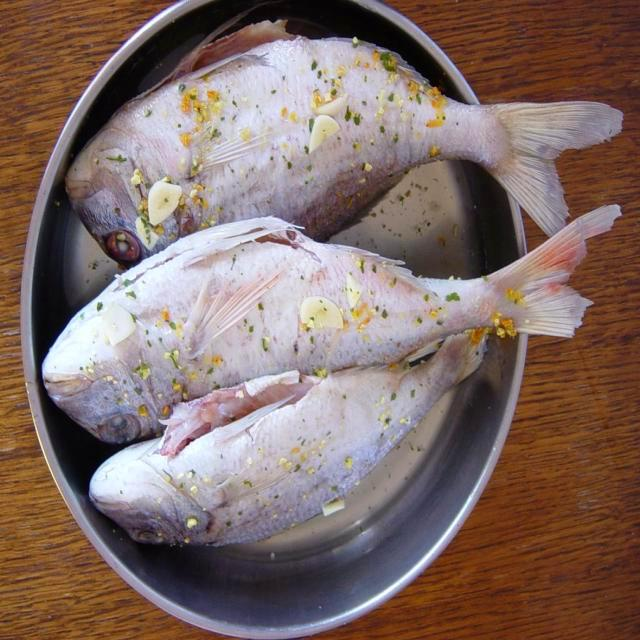fish: (41, 205, 614, 441), (65, 22, 619, 265), (90, 333, 485, 543)
